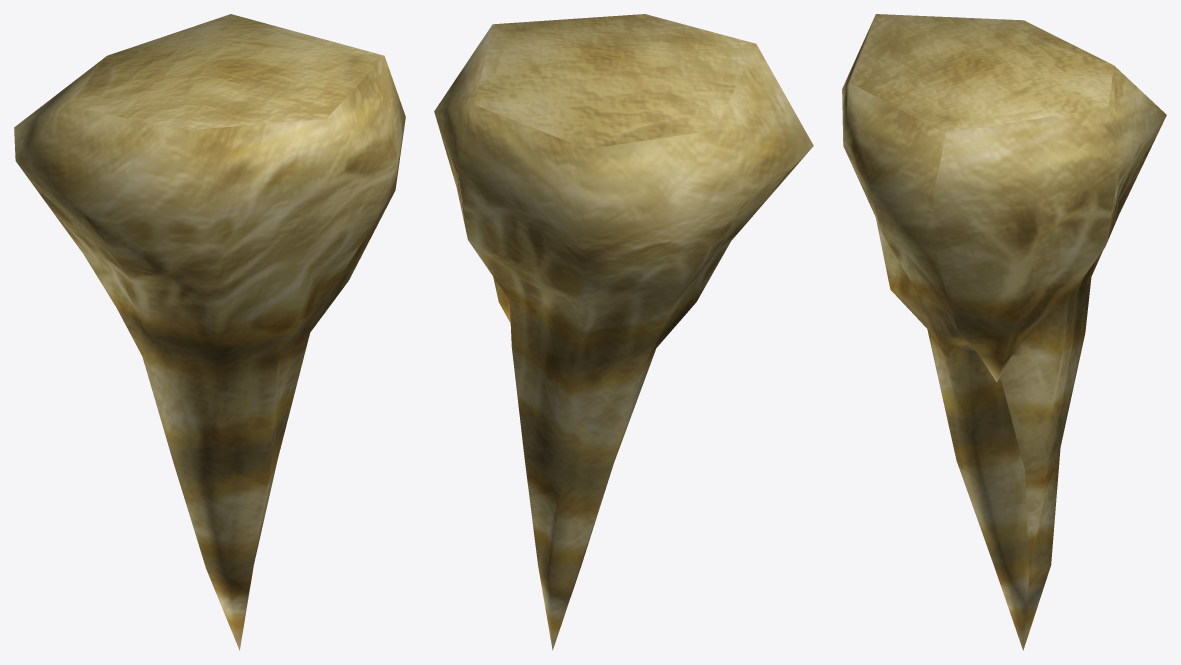
The model's file is Statictite.fbx.
3 renders of one model, left to right at view 1: azimuth 30°, elevation 25°; view 2: azimuth 150°, elevation 25°; view 3: azimuth 270°, elevation 25°, orthographic. The views are drawn at different scales.
Visible parts, largest first — view 1: Statictite; view 2: Statictite; view 3: Statictite.
Part boxes in pixels (<box>): Statictite: <box>14,14,405,650</box>; Statictite: <box>434,14,813,650</box>; Statictite: <box>842,14,1166,650</box>.
Size of the model in its own units: 10.6 by 18.58 by 9.51.
